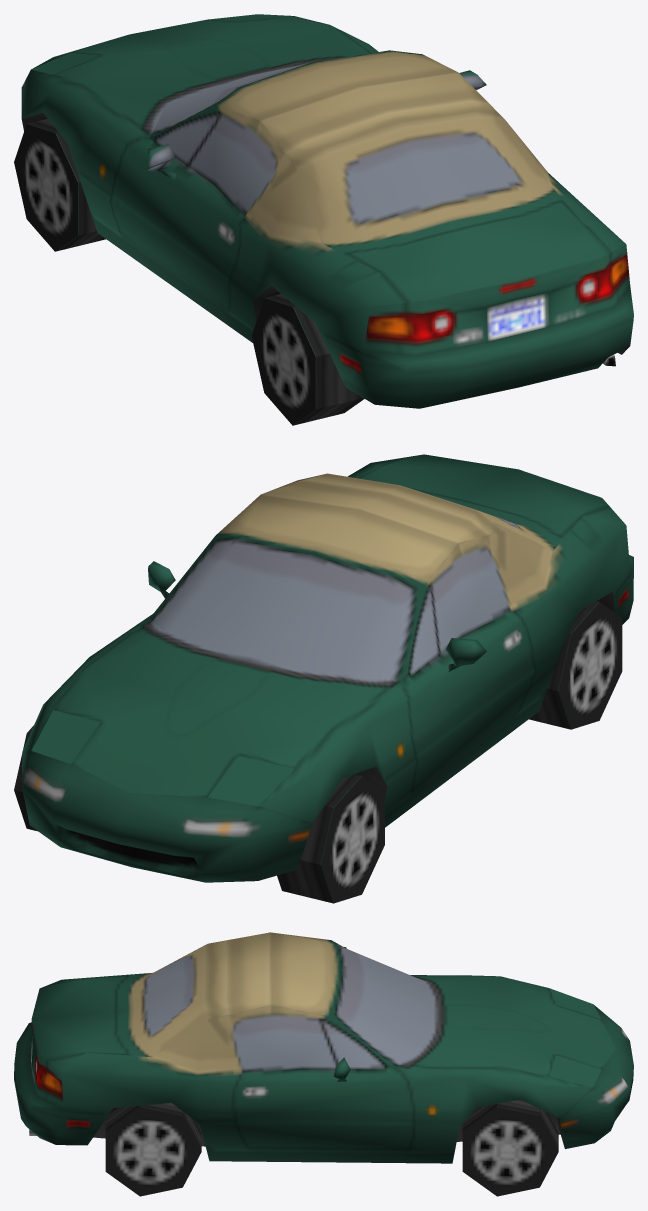
File: fhqDiecast18MiataClosed.fbx
The picture shows the model from 3 angles, top to bottom: view 1: azimuth 30°, elevation 25°; view 2: azimuth 150°, elevation 25°; view 3: azimuth 270°, elevation 25°; orthographic projection. The views are drawn at different scales.
Parts seen in each view (by area): view 1: fhqMX5NAHardtop; view 2: fhqMX5NAHardtop; view 3: fhqMX5NAHardtop.
Part boxes in pixels (x1,y1,x2,y2): fhqMX5NAHardtop: [14, 14, 633, 425]; fhqMX5NAHardtop: [14, 454, 633, 903]; fhqMX5NAHardtop: [14, 932, 633, 1196].
Bounding box in the file's own units: 0.2333 × 0.1562 × 0.4913.
